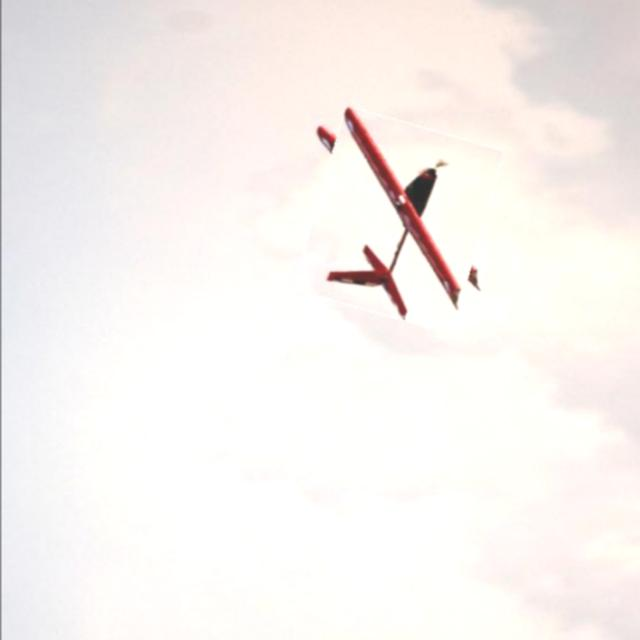plane: (314, 108, 468, 322)
